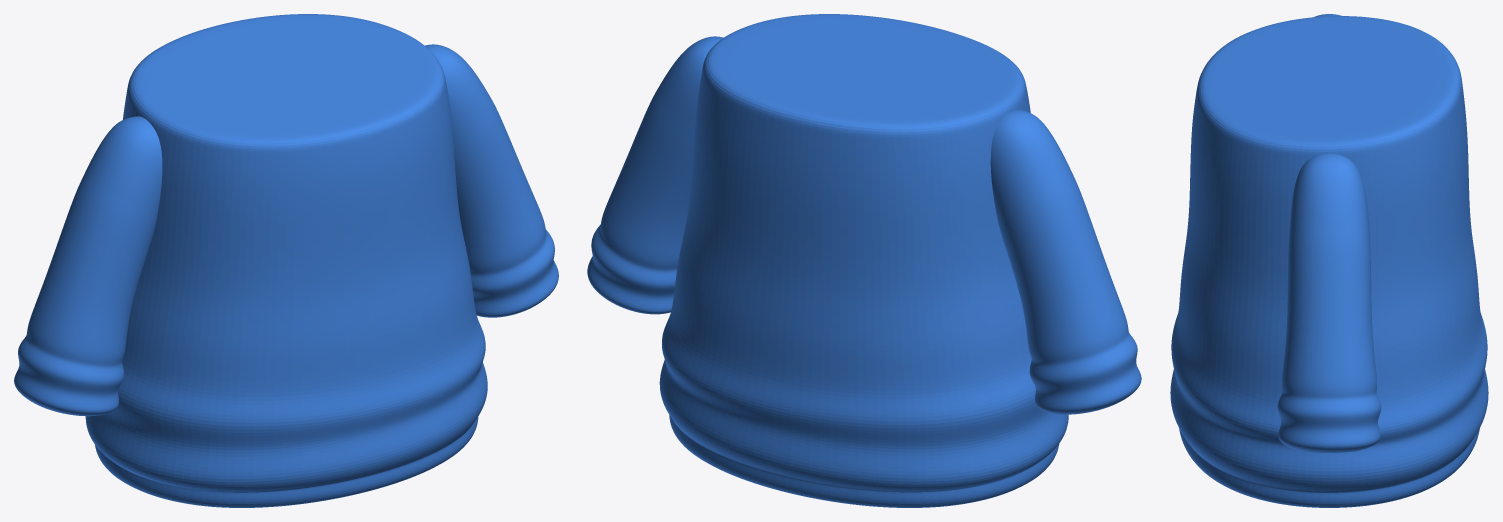
The model's file is CAMISETA_7_H.glb.
3 renders of one model, left to right at view 1: azimuth 30°, elevation 25°; view 2: azimuth 150°, elevation 25°; view 3: azimuth 270°, elevation 25°, orthographic. The views are drawn at different scales.
Visible parts, largest first — view 1: Cube.098, Cube.100; view 2: Cube.098, Cube.100; view 3: Cube.098, Cube.100.
Part boxes in pixels (x1,y1,x2,y2): Cube.098: [85, 14, 487, 507]; Cube.100: [14, 44, 558, 416]; Cube.098: [659, 14, 1068, 507]; Cube.100: [587, 36, 1141, 414]; Cube.098: [1170, 16, 1488, 507]; Cube.100: [1277, 14, 1381, 452].
Bounding box in the file's own units: 3.26 × 2.17 × 1.75.
